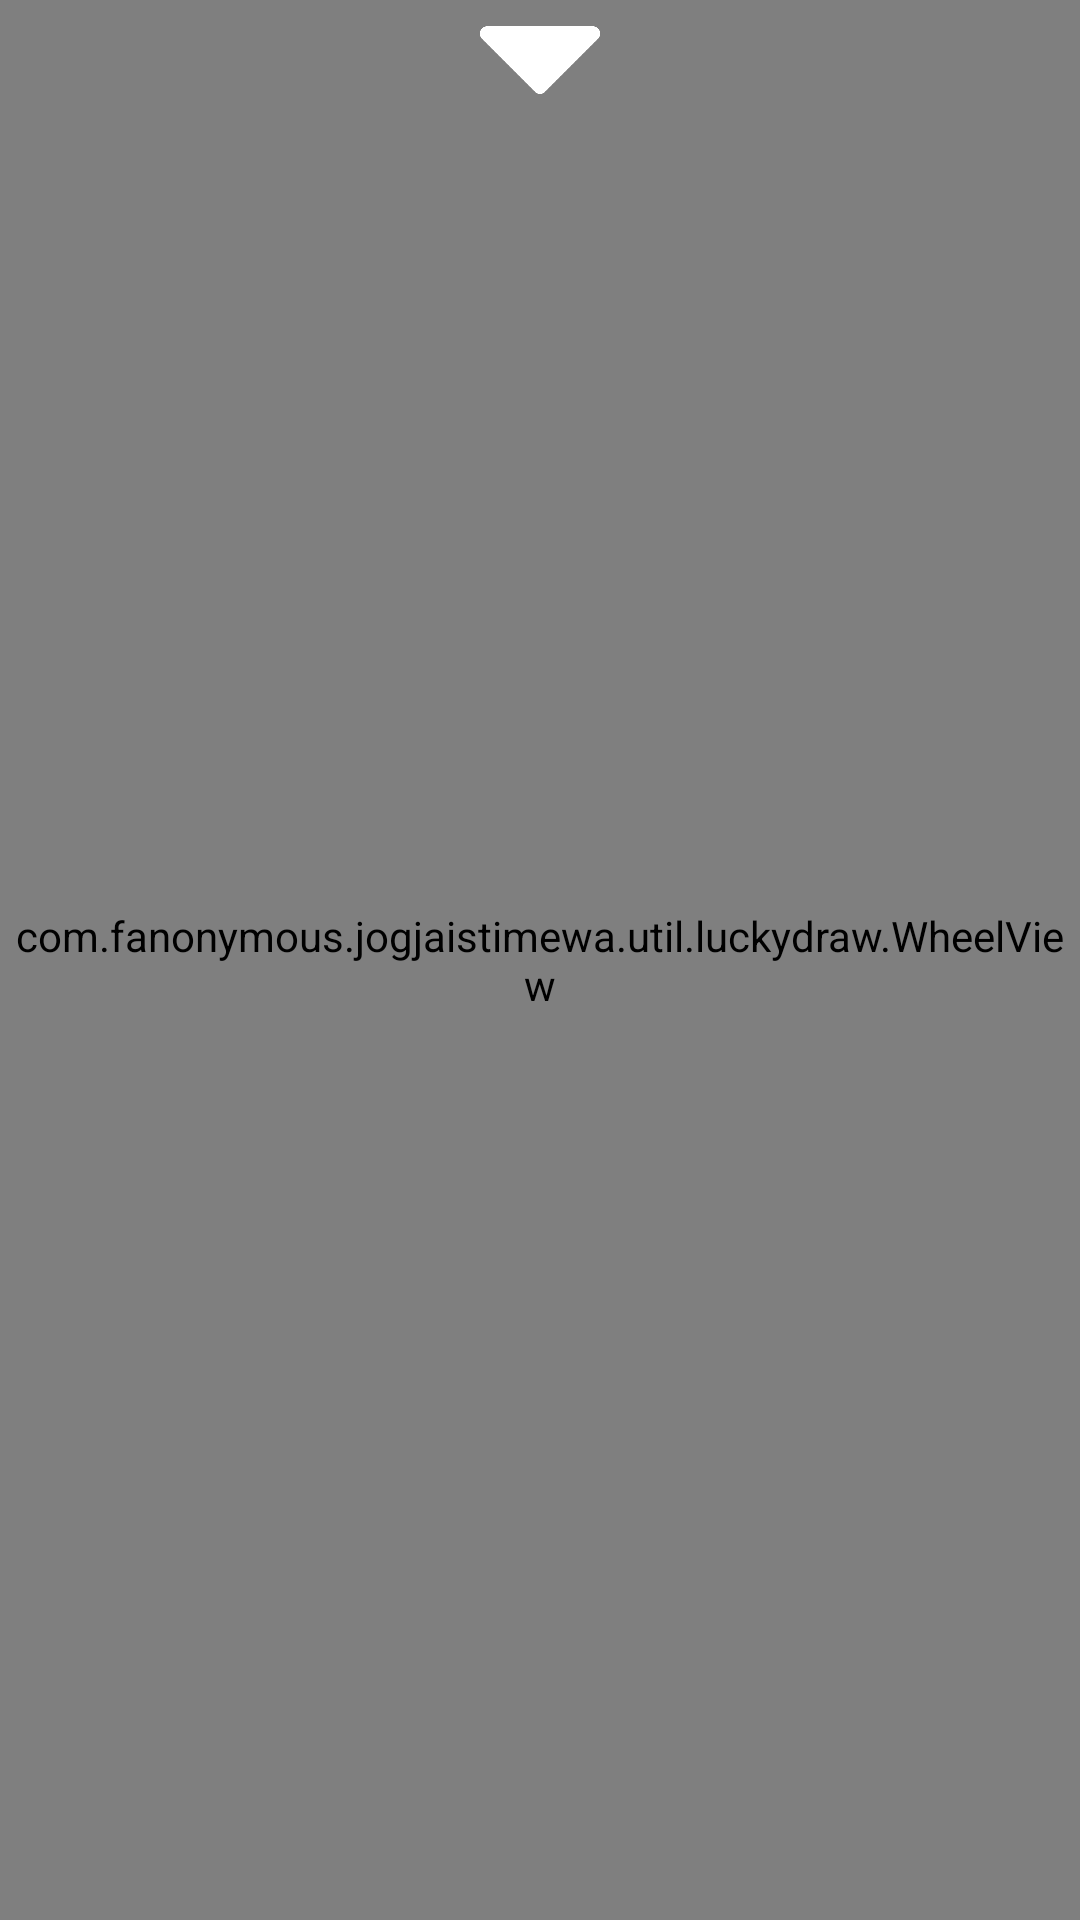

Icons on this 1080×1920 Android screen, each with its box as (x1, y1, x2, y2):
arrow: (480, 26, 600, 94)
